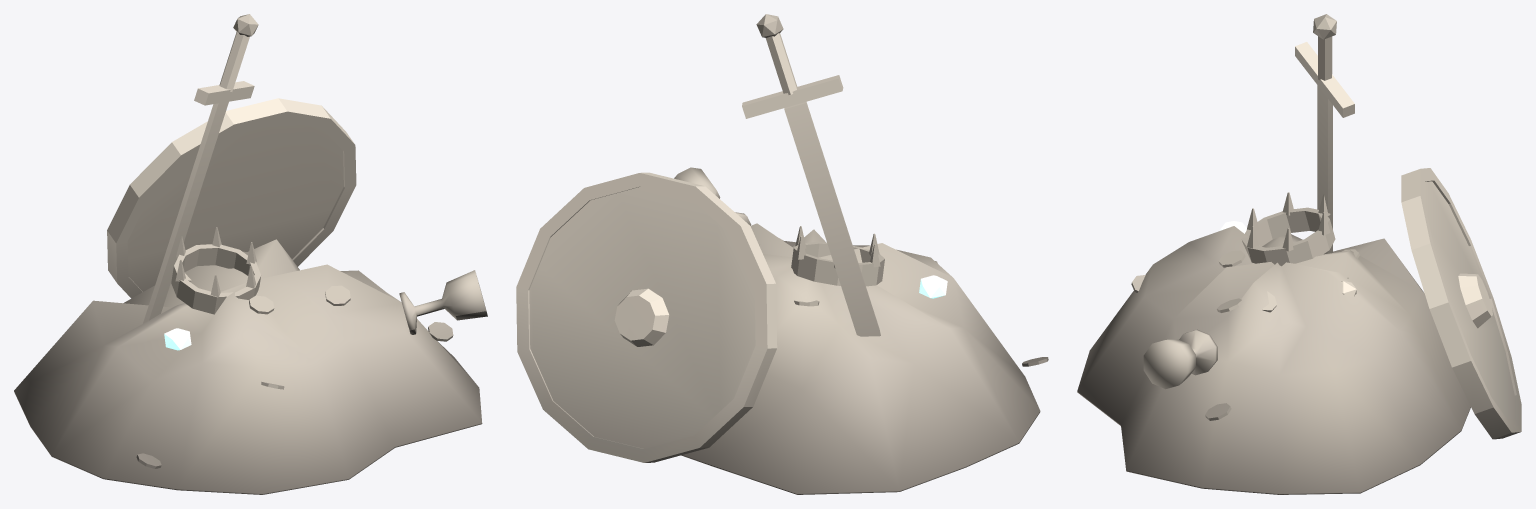
File: SM_VKI_Prop_LootPile.fbx
3 views of the same model, side by side, from view 1: azimuth 30°, elevation 25°; view 2: azimuth 150°, elevation 25°; view 3: azimuth 270°, elevation 25° (orthographic). The views are drawn at different scales.
Parts seen in each view (by area): view 1: SM_VKI_Prop_LootPile.001; view 2: SM_VKI_Prop_LootPile.001; view 3: SM_VKI_Prop_LootPile.001.
Part boxes in pixels (bbox=[...]): SM_VKI_Prop_LootPile.001: bbox=[14, 14, 487, 494]; SM_VKI_Prop_LootPile.001: bbox=[516, 14, 1048, 494]; SM_VKI_Prop_LootPile.001: bbox=[1077, 14, 1521, 494].
Bounding box in the file's own units: 1.06 × 0.9349 × 0.9767.
